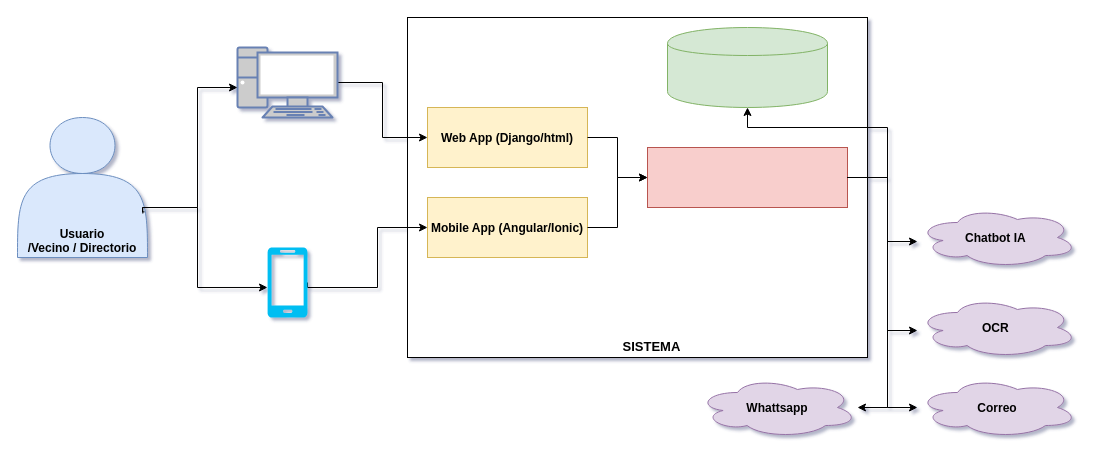
This 1101x461 diagram has some shape labels left out. Here are the shapes that lost their labels. From the top down, the centre of each, then its label:
At point (287, 82): "Navegador Web".
At point (747, 67): "MariaDB (SkySQL)".
At point (747, 177): "Backend (Python)".
At point (287, 282): "Aplicación".
